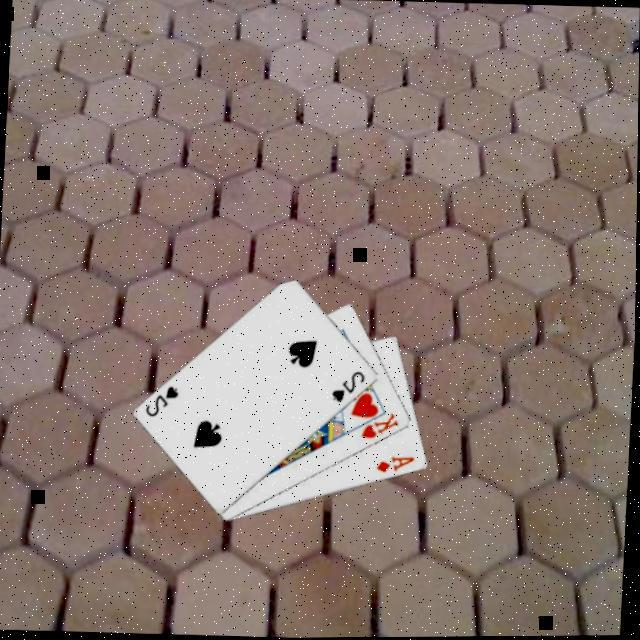2S: (330, 366, 370, 404), (144, 381, 184, 418)
AD: (374, 450, 420, 474)
KH: (361, 407, 404, 440)
